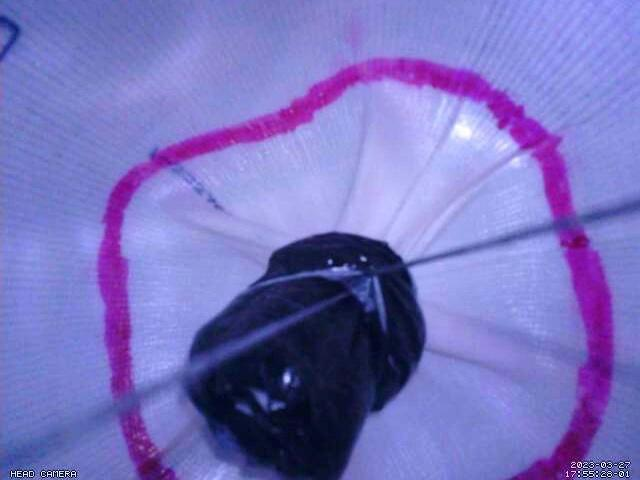red-circle: (95, 55, 617, 480)
